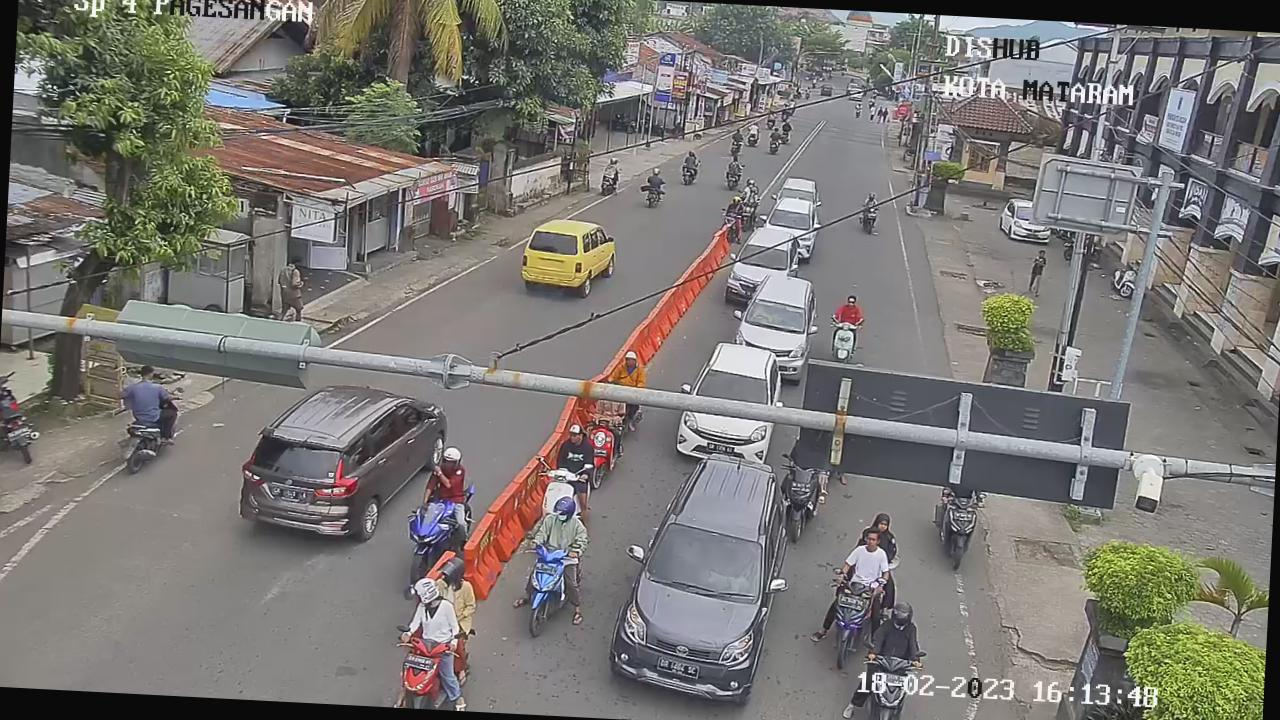car: (605, 445, 792, 708), (233, 382, 447, 545), (672, 335, 788, 473), (727, 272, 821, 382), (518, 218, 618, 298), (719, 222, 806, 311), (757, 194, 823, 261), (770, 170, 821, 211)
motorcycle: (816, 561, 885, 676), (509, 531, 583, 638), (385, 614, 457, 710), (394, 495, 462, 587), (769, 446, 831, 542), (928, 485, 991, 575), (526, 450, 595, 532), (574, 410, 618, 491), (825, 316, 867, 368), (716, 206, 744, 245), (857, 203, 881, 235)
person: (118, 370, 184, 450), (402, 574, 461, 648), (865, 598, 927, 662), (419, 440, 474, 510), (533, 492, 592, 557), (837, 526, 895, 592), (550, 422, 596, 480), (606, 347, 649, 391), (830, 291, 866, 331), (640, 170, 664, 204), (724, 154, 746, 176), (860, 190, 880, 212), (724, 194, 744, 216), (681, 146, 698, 170), (743, 184, 759, 206), (767, 126, 784, 146), (740, 177, 754, 200), (730, 126, 745, 144), (745, 120, 760, 136), (780, 117, 794, 134)
